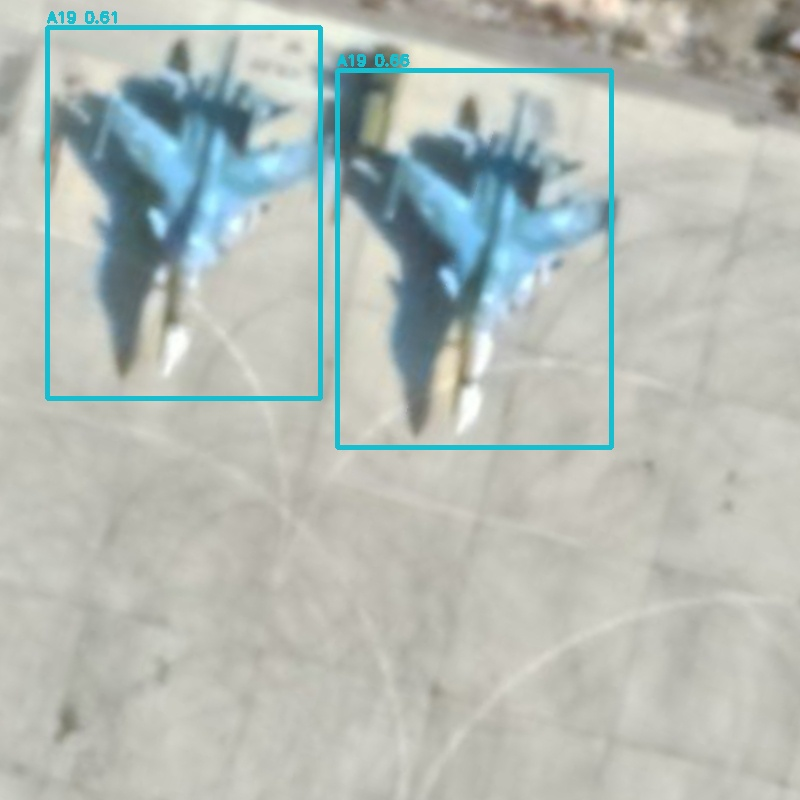A19: (337, 70, 611, 447), (47, 27, 320, 398)
